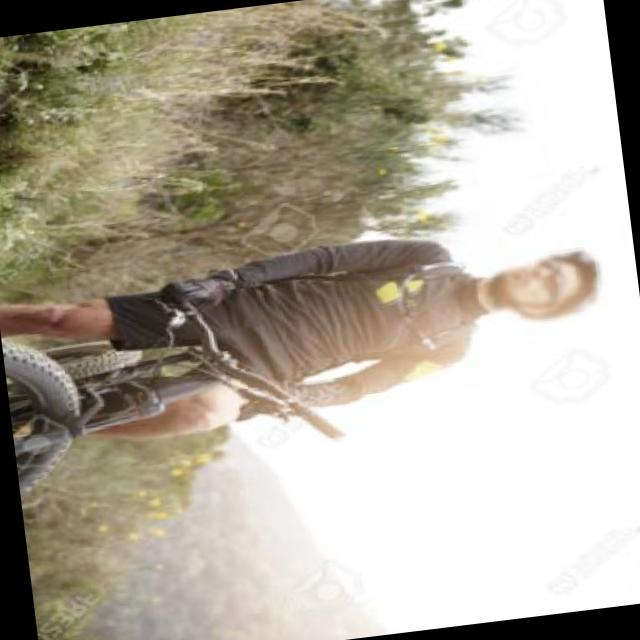With Helmet: (480, 243, 614, 330)
